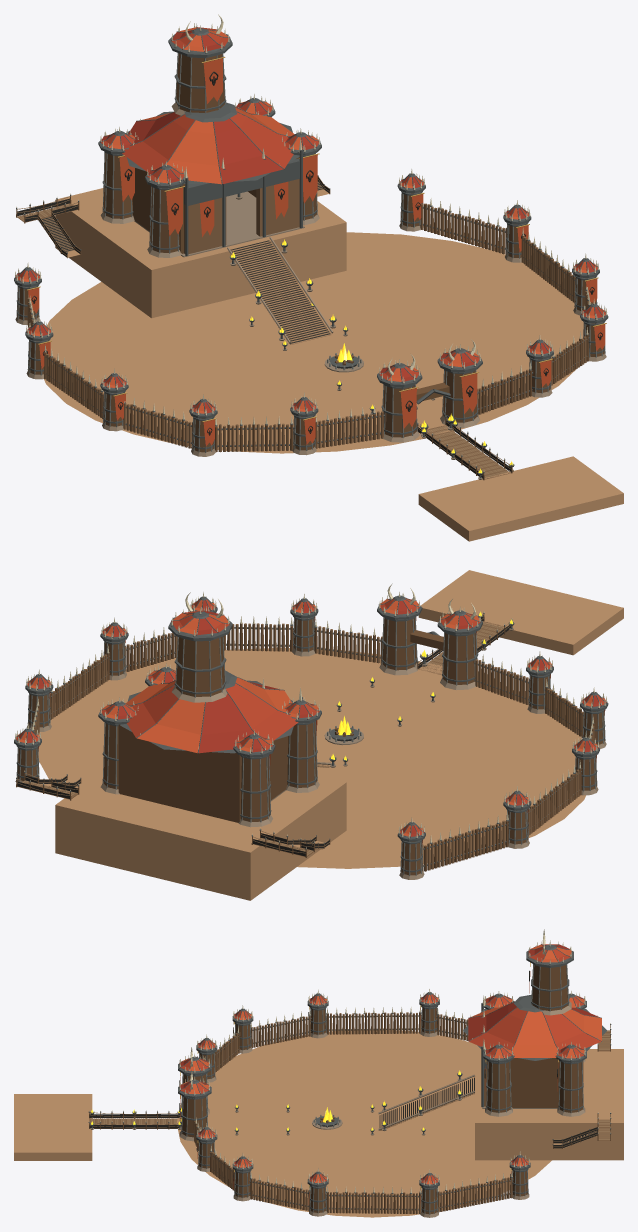
Rendered from orgrimmar-city.glb.
3 views of the same model, one above another, from view 1: azimuth 30°, elevation 25°; view 2: azimuth 150°, elevation 25°; view 3: azimuth 270°, elevation 25° (orthographic). The views are drawn at different scales.
Visible parts, largest first — view 1: Solid_ValleyStrength_sand, Solid_Citadel_sand, Solid_Gate_wood, Solid_Approach_sand, Solid_Gate_wood2, Detail_Citadel_red2, Detail_Gate_iron, Detail_Citadel_iron, Solid_Citadel_wood, Detail_Gate_red2, Detail_Citadel_red, Detail_Citadel_red3 (+14 smaller); view 2: Solid_ValleyStrength_sand, Solid_Citadel_sand, Solid_Citadel_wood, Solid_Gate_wood, Solid_Gate_wood2, Solid_Approach_sand, Detail_Gate_iron, Detail_Citadel_red2, Detail_Citadel_iron, Detail_Citadel_red, Detail_Gate_edge, Detail_Citadel_red3 (+11 smaller); view 3: Solid_ValleyStrength_sand, Solid_Citadel_sand, Solid_Gate_wood, Solid_Gate_wood2, Solid_Citadel_wood, Solid_Approach_sand, Detail_Gate_iron, Detail_Citadel_iron, Detail_Citadel_red2, Detail_Citadel_red, Detail_Gate_edge, Detail_Gate_ivory (+13 smaller).
Boxes of the visible parts, left/top/right/bottom form: Solid_ValleyStrength_sand: left=44, top=232, right=583, bottom=453; Solid_Citadel_sand: left=55, top=188, right=346, bottom=318; Solid_Gate_wood: left=17, top=193, right=604, bottom=452; Solid_Approach_sand: left=418, top=456, right=623, bottom=541; Solid_Gate_wood2: left=27, top=203, right=589, bottom=452; Detail_Citadel_red2: left=106, top=27, right=318, bottom=237; Detail_Gate_iron: left=14, top=173, right=608, bottom=449; Detail_Citadel_iron: left=16, top=27, right=336, bottom=338; Solid_Citadel_wood: left=17, top=53, right=316, bottom=253; Detail_Gate_red2: left=21, top=177, right=605, bottom=446; Detail_Citadel_red: left=101, top=27, right=318, bottom=181; Detail_Citadel_red3: left=100, top=31, right=315, bottom=183; Solid_ValleyStrength_sand: left=38, top=647, right=585, bottom=868; Solid_Citadel_sand: left=55, top=770, right=346, bottom=900; Solid_Citadel_wood: left=17, top=637, right=316, bottom=856; Solid_Gate_wood: left=17, top=618, right=604, bottom=875; Solid_Gate_wood2: left=33, top=623, right=594, bottom=871; Solid_Approach_sand: left=418, top=570, right=623, bottom=655; Detail_Gate_iron: left=14, top=595, right=608, bottom=872; Detail_Citadel_red2: left=102, top=613, right=318, bottom=769; Detail_Citadel_iron: left=16, top=610, right=336, bottom=849; Detail_Citadel_red: left=101, top=610, right=319, bottom=750; Detail_Gate_edge: left=16, top=617, right=605, bottom=875; Detail_Citadel_red3: left=117, top=610, right=313, bottom=753; Solid_ValleyStrength_sand: left=176, top=1030, right=551, bottom=1217; Solid_Citadel_sand: left=475, top=1049, right=623, bottom=1160; Solid_Gate_wood: left=182, top=1007, right=527, bottom=1214; Solid_Gate_wood2: left=194, top=1012, right=513, bottom=1213; Solid_Citadel_wood: left=487, top=965, right=609, bottom=1140; Solid_Approach_sand: left=14, top=1094, right=92, bottom=1160; Detail_Gate_iron: left=178, top=992, right=530, bottom=1211; Detail_Citadel_iron: left=381, top=944, right=611, bottom=1134; Detail_Citadel_red2: left=471, top=944, right=601, bottom=1091; Detail_Citadel_red: left=469, top=944, right=600, bottom=1057; Detail_Gate_edge: left=181, top=1007, right=528, bottom=1214; Detail_Gate_ivory: left=179, top=989, right=529, bottom=1193.
Size of the model in its own units: 149 by 72.3 by 202.
